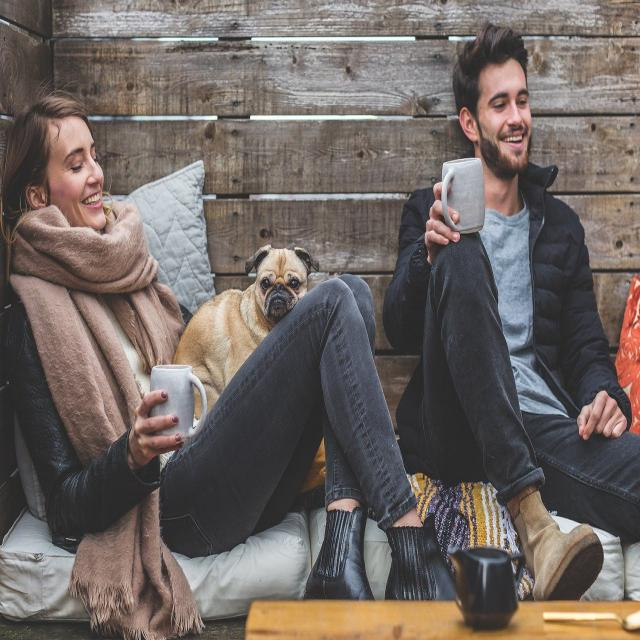face: (474, 58, 534, 176), (47, 115, 105, 231)
